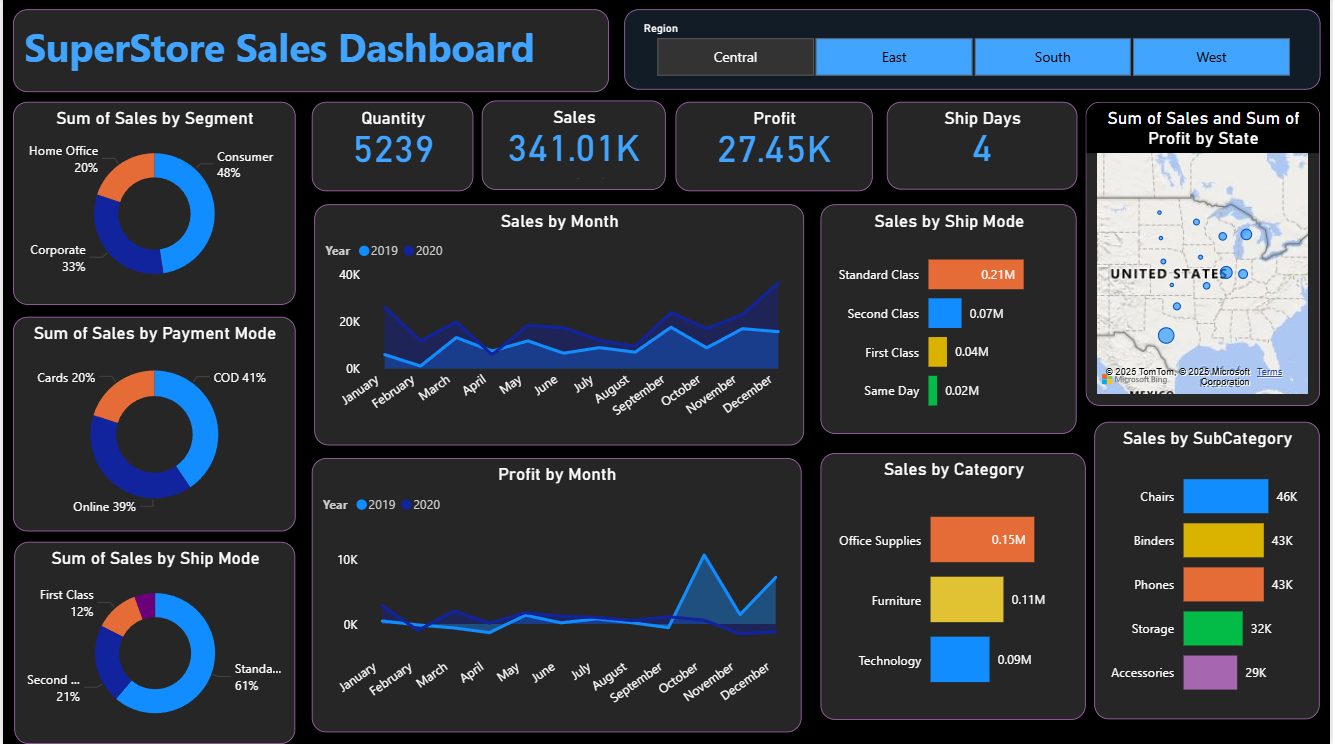

The dashboard page shown, as its layout file describes it:
{"tool":"powerbi","page":{"name":"Page 1","canvas":[1280,720],"ordinal":0},"visuals":[{"type":"clusteredBarChart","title":" Sales by Category","fields":{"Category":["SuperStore_Sales_Dataset.Category"],"Y":["Sum(SuperStore_Sales_Dataset.Sales)"]},"box":[788.8,438.8,256.2,257.5],"z":0},{"type":"clusteredBarChart","title":" Sales by SubCategory","fields":{"Category":["SuperStore_Sales_Dataset.Sub-Category"],"Y":["Sum(SuperStore_Sales_Dataset.Sales)"]},"box":[1053.8,408.8,217.5,287.5],"z":1000},{"type":"clusteredBarChart","title":" Sales by Ship Mode","fields":{"Category":["SuperStore_Sales_Dataset.Ship Mode"],"Y":["Sum(SuperStore_Sales_Dataset.Sales)"]},"box":[788.8,198.8,247.5,221.2],"z":2000},{"type":"areaChart","title":" Sales by Month","fields":{"Y":["Sum(SuperStore_Sales_Dataset.Sales)"],"Series":["SuperStore_Sales_Dataset.Order Date.Variation.Date Hierarchy.Year"],"Category":["SuperStore_Sales_Dataset.Order Date.Variation.Date Hierarchy.Month"]},"box":[300,198.8,472.5,232.5],"z":3000},{"type":"areaChart","title":"Profit by Month","fields":{"Series":["SuperStore_Sales_Dataset.Order Date.Variation.Date Hierarchy.Year"],"Category":["SuperStore_Sales_Dataset.Order Date.Variation.Date Hierarchy.Month"],"Y":["Sum(SuperStore_Sales_Dataset.Profit)"]},"box":[297.5,443.8,472.5,265],"z":4000},{"type":"map","fields":{"Category":["SuperStore_Sales_Dataset.State"],"Size":["Sum(SuperStore_Sales_Dataset.Sales)"]},"box":[1045,100,226.2,293.8],"z":5000},{"type":"donutChart","fields":{"Category":["SuperStore_Sales_Dataset.Segment"],"Y":["Sum(SuperStore_Sales_Dataset.Sales)"]},"box":[10,100,272.5,196.2],"z":6000},{"type":"donutChart","fields":{"Category":["SuperStore_Sales_Dataset.Payment Mode"],"Y":["Sum(SuperStore_Sales_Dataset.Sales)"]},"box":[10,307.5,272.5,207.5],"z":7000},{"type":"slicer","fields":{"Values":["SuperStore_Sales_Dataset.Region"]},"box":[599.6,10.9,672,77.2],"z":8000},{"type":"textbox","box":[9.7,10.9,575.5,79.6],"z":9000},{"type":"card","title":"Sales","fields":{"Values":["Sum(SuperStore_Sales_Dataset.Sales)"]},"box":[462.5,98.8,177.5,86.2],"z":10000},{"type":"card","title":"Quantity","fields":{"Values":["Sum(SuperStore_Sales_Dataset.Quantity)"]},"box":[297.5,100,156.2,86.2],"z":11000},{"type":"card","title":"Profit","fields":{"Values":["Sum(SuperStore_Sales_Dataset.Profit)"]},"box":[648.8,100,190,86.2],"z":12000},{"type":"card","title":"Ship Days","fields":{"Values":["Avg(SuperStore_Sales_Dataset.AvgDelivery)"]},"box":[852.5,100,183.8,85],"z":13000},{"type":"donutChart","fields":{"Category":["SuperStore_Sales_Dataset.Ship Mode"],"Y":["Sum(SuperStore_Sales_Dataset.Sales)"]},"box":[10.9,524.8,271.4,195.4],"z":14000}]}

Visuals, with their boxes in screenshot pixels (x1, y1, x2, y2), scaled from the page's 1280x720 canvas onto the 1333x744 screenshot:
" Sales by Category" clusteredBarChart: left=821, top=453, right=1088, bottom=720
" Sales by SubCategory" clusteredBarChart: left=1097, top=422, right=1324, bottom=720
" Sales by Ship Mode" clusteredBarChart: left=821, top=205, right=1079, bottom=434
" Sales by Month" areaChart: left=312, top=205, right=804, bottom=446
"Profit by Month" areaChart: left=310, top=459, right=802, bottom=732
map - SuperStore_Sales_Dataset.State x Sum(SuperStore_Sales_Dataset.Sales): left=1088, top=103, right=1324, bottom=407
donutChart - SuperStore_Sales_Dataset.Segment x Sum(SuperStore_Sales_Dataset.Sales): left=10, top=103, right=294, bottom=306
donutChart - SuperStore_Sales_Dataset.Payment Mode x Sum(SuperStore_Sales_Dataset.Sales): left=10, top=318, right=294, bottom=532
slicer - SuperStore_Sales_Dataset.Region: left=624, top=11, right=1324, bottom=91
textbox: left=10, top=11, right=609, bottom=94
"Sales" card: left=482, top=102, right=666, bottom=191
"Quantity" card: left=310, top=103, right=472, bottom=192
"Profit" card: left=676, top=103, right=874, bottom=192
"Ship Days" card: left=888, top=103, right=1079, bottom=191
donutChart - SuperStore_Sales_Dataset.Ship Mode x Sum(SuperStore_Sales_Dataset.Sales): left=11, top=542, right=294, bottom=743
